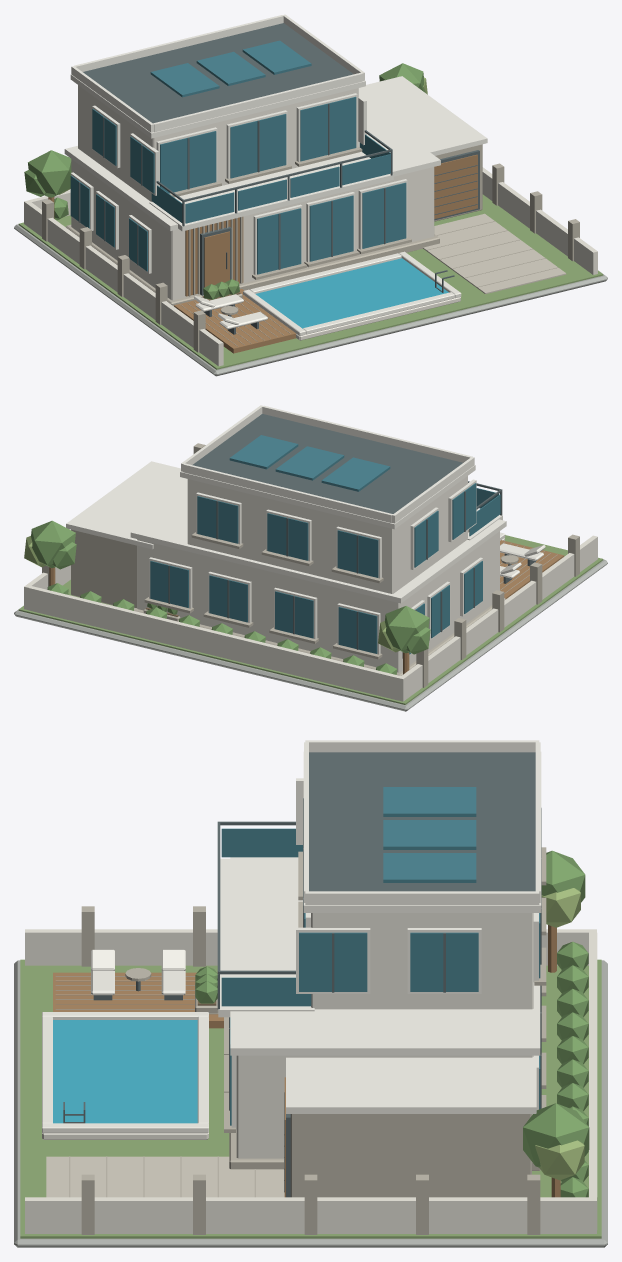
The model's file is Luxury_Detached_Villa.fbx.
The picture shows the model from 3 angles, top to bottom: view 1: azimuth 30°, elevation 25°; view 2: azimuth 150°, elevation 25°; view 3: azimuth 270°, elevation 25°; orthographic projection. The views are drawn at different scales.
Visible parts, largest first — view 1: Upper Roof Inset, Villa Ground Floor, Villa Lawn, Pool Water, Garage Driveway, Garage Roof, Upper Floor Volume, Boundary Low Wall, Villa Plot Base, Ground Floor Roof Edge, Balcony Slab, Upper Front Glass Glass.001 (+44 smaller); view 2: Villa Ground Floor, Upper Roof Inset, Upper Floor Volume, Rear Boundary Wall, Ground Floor Roof Edge, Garage Roof, Boundary Low Wall, Villa Plot Base, Garage Volume, Villa Lawn, Upper Roof Parapet.003, Upper Roof Parapet.002 (+29 smaller); view 3: Upper Roof Inset, Garage Volume, Boundary Low Wall.001, Villa Lawn, Pool Water, Ground Floor Roof Edge, Garage Roof, Upper Floor Volume, Balcony Slab, Villa Plot Base, Garage Driveway, Boundary Low Wall (+41 smaller).
Boxes of the visible parts, <box> form: Upper Roof Inset: <box>83,23,353,123</box>; Villa Ground Floor: <box>71,159,434,300</box>; Villa Lawn: <box>18,194,603,369</box>; Pool Water: <box>255,258,448,328</box>; Garage Driveway: <box>423,213,566,294</box>; Garage Roof: <box>358,76,487,155</box>; Upper Floor Volume: <box>78,85,358,201</box>; Boundary Low Wall: <box>24,200,223,366</box>; Villa Plot Base: <box>14,224,607,376</box>; Ground Floor Roof Edge: <box>64,106,440,230</box>; Balcony Slab: <box>149,151,393,231</box>; Upper Front Glass Glass.001: <box>230,114,286,178</box>; Villa Ground Floor: <box>137,531,499,672</box>; Upper Roof Inset: <box>192,414,462,513</box>; Upper Floor Volume: <box>187,476,467,593</box>; Rear Boundary Wall: <box>28,586,400,700</box>; Ground Floor Roof Edge: <box>130,491,506,603</box>; Garage Roof: <box>66,461,187,549</box>; Boundary Low Wall: <box>398,535,597,701</box>; Villa Plot Base: <box>14,559,607,711</box>; Garage Volume: <box>71,529,136,607</box>; Villa Lawn: <box>18,535,603,704</box>; Upper Roof Parapet.003: <box>183,463,392,522</box>; Upper Roof Parapet.002: <box>262,405,472,462</box>; Upper Roof Inset: <box>309,752,535,891</box>; Garage Volume: <box>290,1114,531,1197</box>; Boundary Low Wall.001: <box>25,1197,596,1233</box>; Villa Lawn: <box>20,959,601,1238</box>; Pool Water: <box>53,1020,197,1123</box>; Ground Floor Roof Edge: <box>230,857,540,1055</box>; Garage Roof: <box>286,1055,536,1113</box>; Upper Floor Volume: <box>311,913,533,1009</box>; Balcony Slab: <box>218,858,314,1017</box>; Villa Plot Base: <box>14,960,607,1247</box>; Garage Driveway: <box>46,1156,284,1197</box>; Boundary Low Wall: <box>25,929,596,965</box>.
Size of the model in its own units: 1830 by 749 by 1600.
